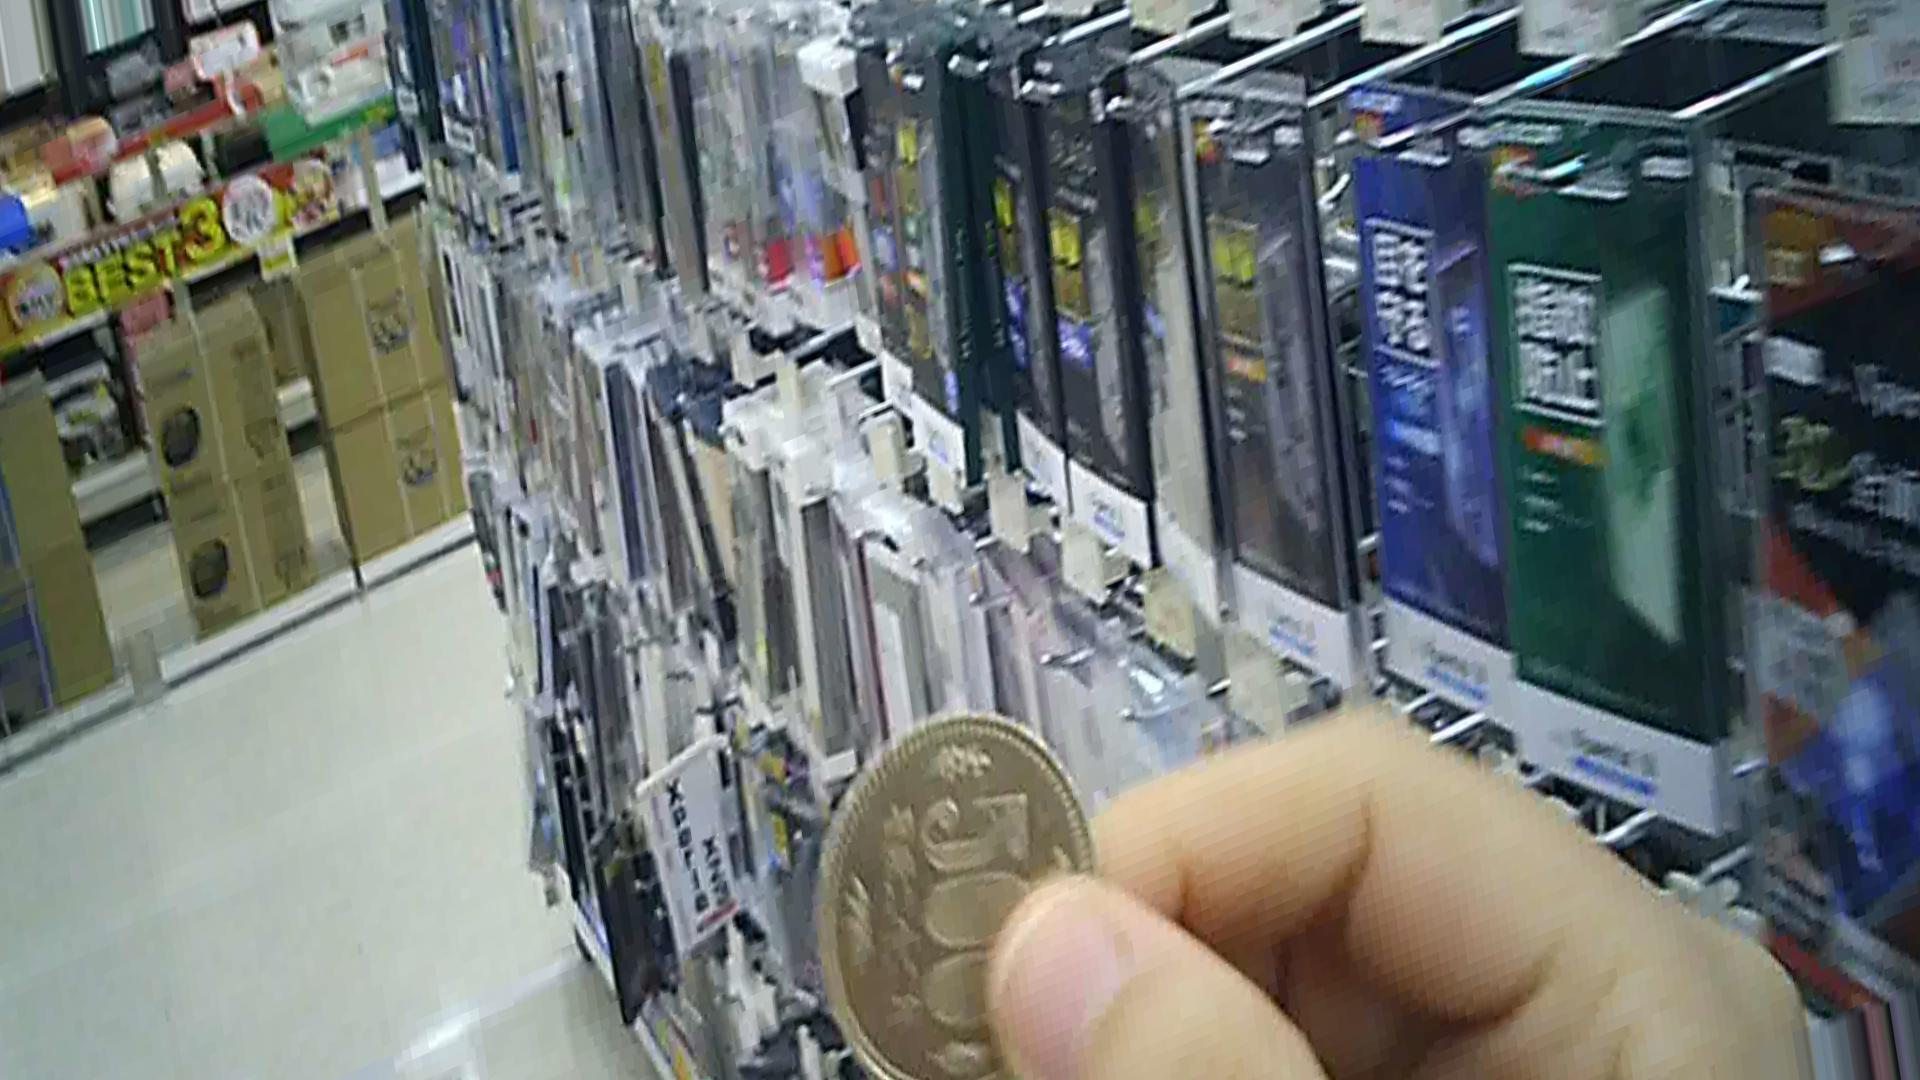500 Yen: (802, 702, 1096, 1065)
